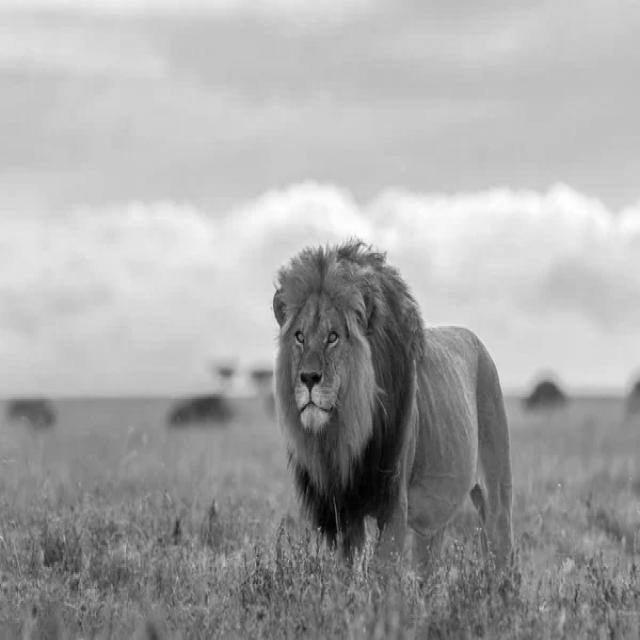Animal: (273, 241, 513, 571)
